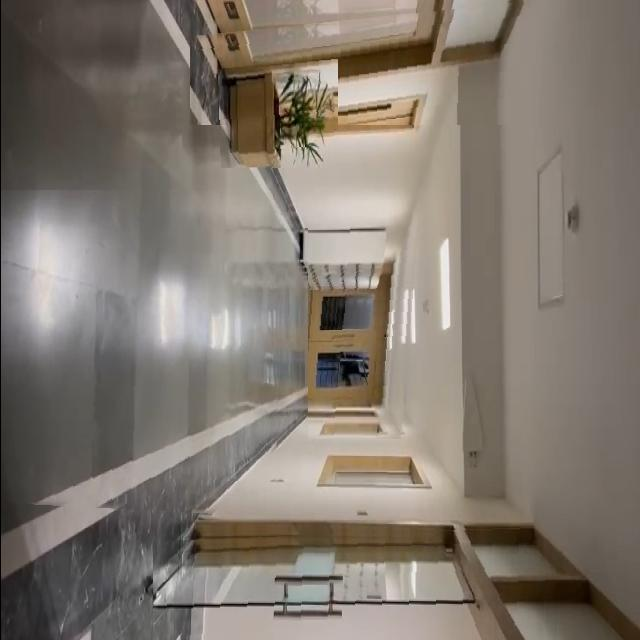door: (152, 526, 560, 640), (188, 0, 538, 125), (307, 219, 418, 439)
floor: (0, 190, 282, 517)
furniture: (216, 59, 336, 168)
